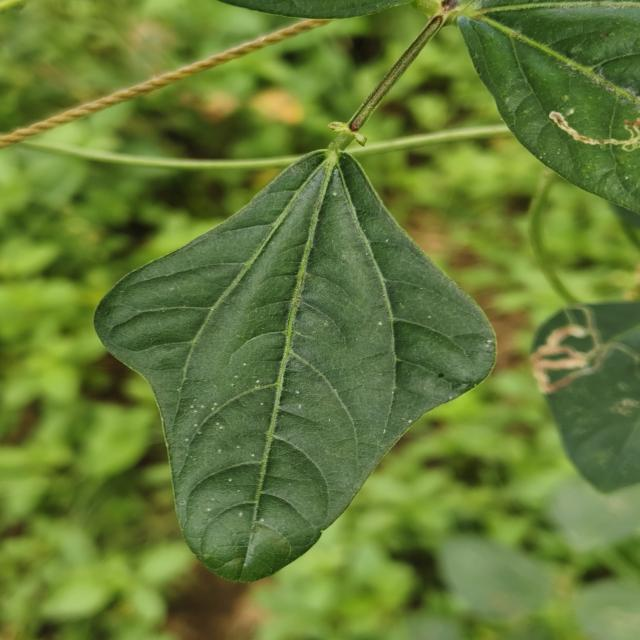leaf-low: (94, 151, 495, 581)
sitaw-aphid-high: (458, 0, 640, 213), (531, 301, 640, 492)
